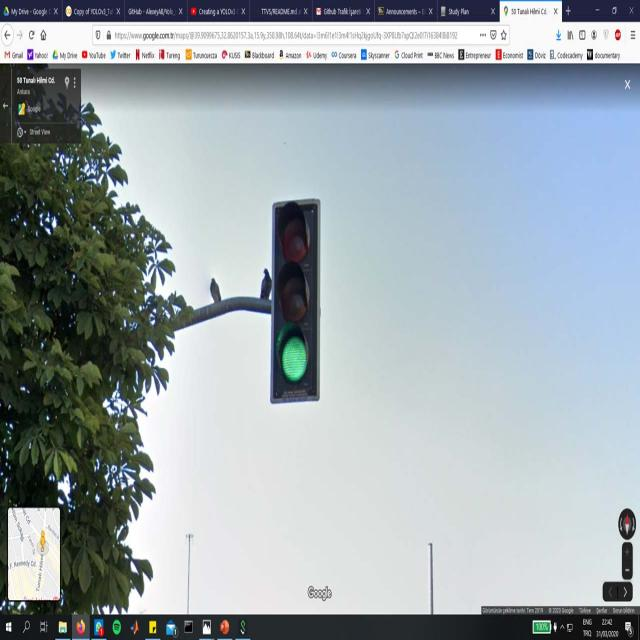yesil: (274, 202, 316, 395)
